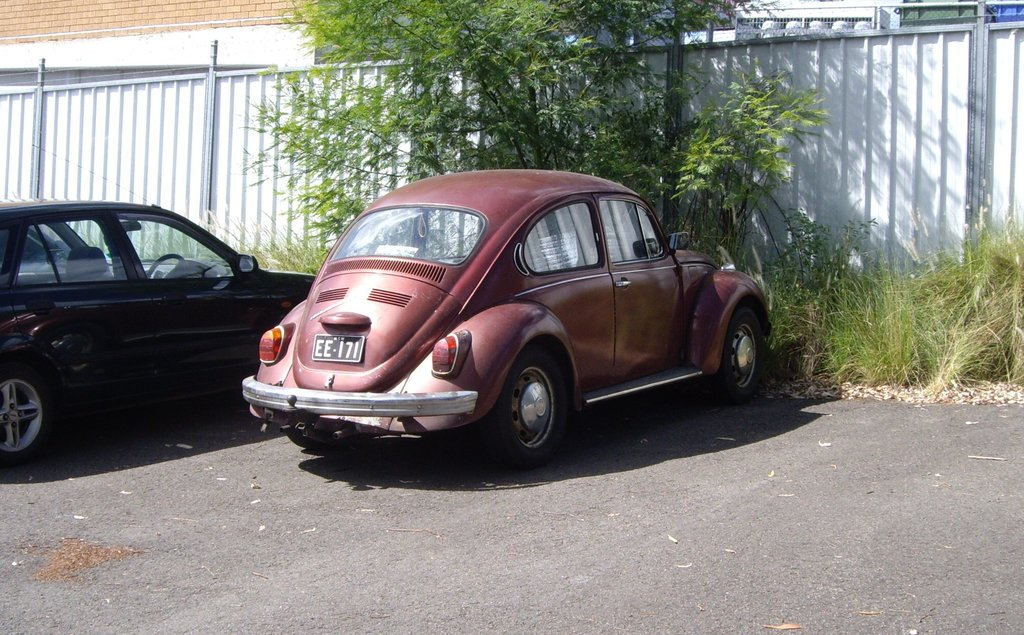Car: (218, 175, 786, 465), (0, 196, 318, 464)
